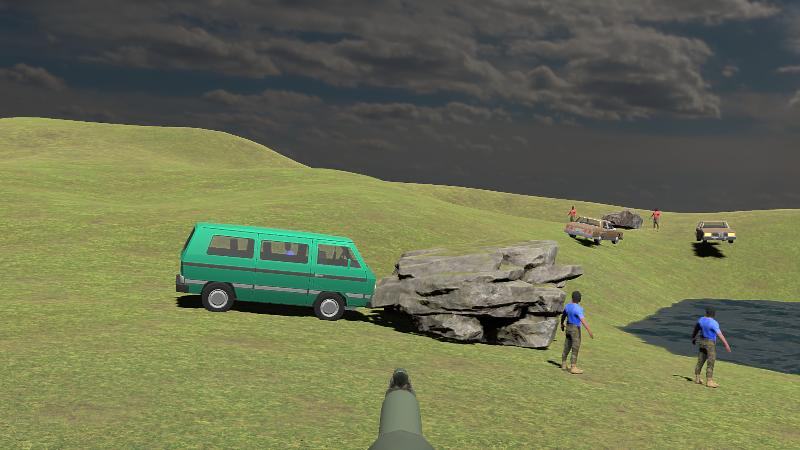Human: (691, 306, 730, 389), (561, 290, 593, 373)
car: (177, 224, 377, 322), (564, 216, 624, 245), (695, 218, 736, 245)
